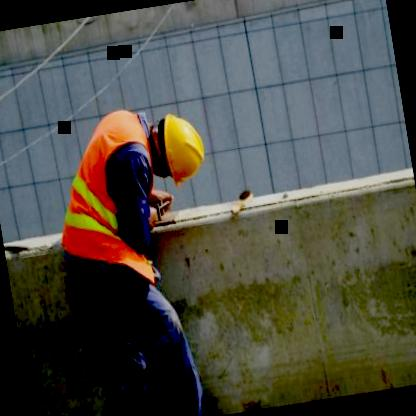helmet: (152, 112, 212, 186)
